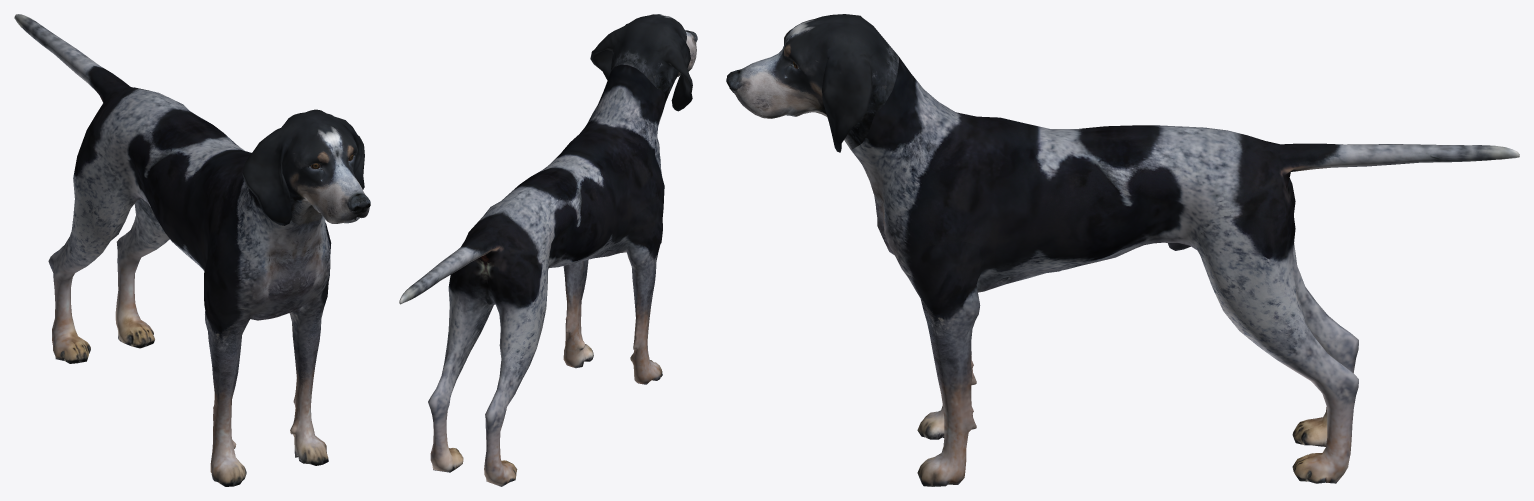
The model's file is realistic_dog.glb.
The picture shows the model from 3 angles, left to right: view 1: azimuth 30°, elevation 25°; view 2: azimuth 150°, elevation 25°; view 3: azimuth 270°, elevation 25°; orthographic projection. The views are drawn at different scales.
Parts seen in each view (by area): view 1: sm_1_0_0; view 2: sm_1_0_0; view 3: sm_1_0_0.
Boxes of the visible parts, left/top/right/bottom form: sm_1_0_0: left=14, top=14, right=370, bottom=486; sm_1_0_0: left=399, top=14, right=697, bottom=486; sm_1_0_0: left=726, top=14, right=1519, bottom=486.
Size of the model in its own units: 0.2581 by 0.7954 by 1.3.
Materials: 3 (3 with a texture image).
